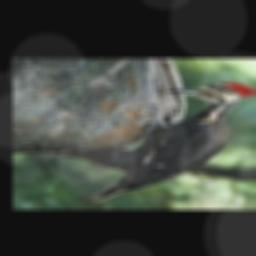Woodpecker: (89, 83, 256, 200)
